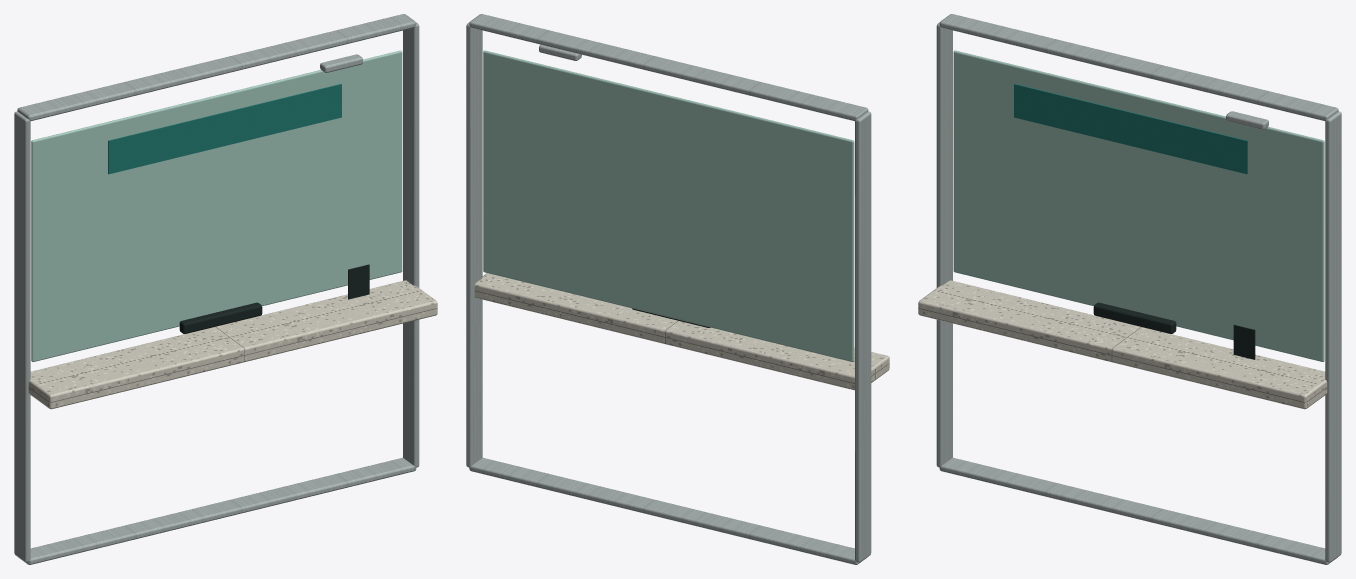
Rendered from detail-service-window-0.glb.
The picture shows the model from 3 angles, left to right: view 1: azimuth 30°, elevation 25°; view 2: azimuth 150°, elevation 25°; view 3: azimuth 330°, elevation 25°; orthographic projection.
Visible parts, largest first — view 1: service_glass, counter, frame_side (×2), frame_rail (×2), label_room_sign, cash_slot, label_intercom; view 2: service_glass, frame_side (×2), frame_rail (×2), counter; view 3: service_glass, counter, frame_side (×2), frame_rail (×2), label_room_sign, cash_slot, label_intercom.
Part boxes in pixels (left/top/right/bottom): service_glass: left=31, top=50, right=402, bottom=361; counter: left=28, top=280, right=437, bottom=409; frame_side (×2): left=14, top=22, right=419, bottom=562; frame_rail (×2): left=17, top=14, right=416, bottom=564; label_room_sign: left=108, top=84, right=341, bottom=174; cash_slot: left=179, top=302, right=262, bottom=333; label_intercom: left=348, top=264, right=369, bottom=299; service_glass: left=483, top=50, right=854, bottom=361; frame_side (×2): left=466, top=22, right=871, bottom=562; frame_rail (×2): left=469, top=14, right=868, bottom=564; counter: left=474, top=273, right=889, bottom=390; service_glass: left=953, top=50, right=1324, bottom=361; counter: left=918, top=280, right=1327, bottom=409; frame_side (×2): left=936, top=22, right=1341, bottom=562; frame_rail (×2): left=939, top=14, right=1338, bottom=564; label_room_sign: left=1014, top=84, right=1247, bottom=174; cash_slot: left=1093, top=302, right=1176, bottom=333; label_intercom: left=1233, top=324, right=1255, bottom=359.
Bounding box in the file's own units: 2.24 × 2.44 × 0.33.
5 materials, 4 textured.
